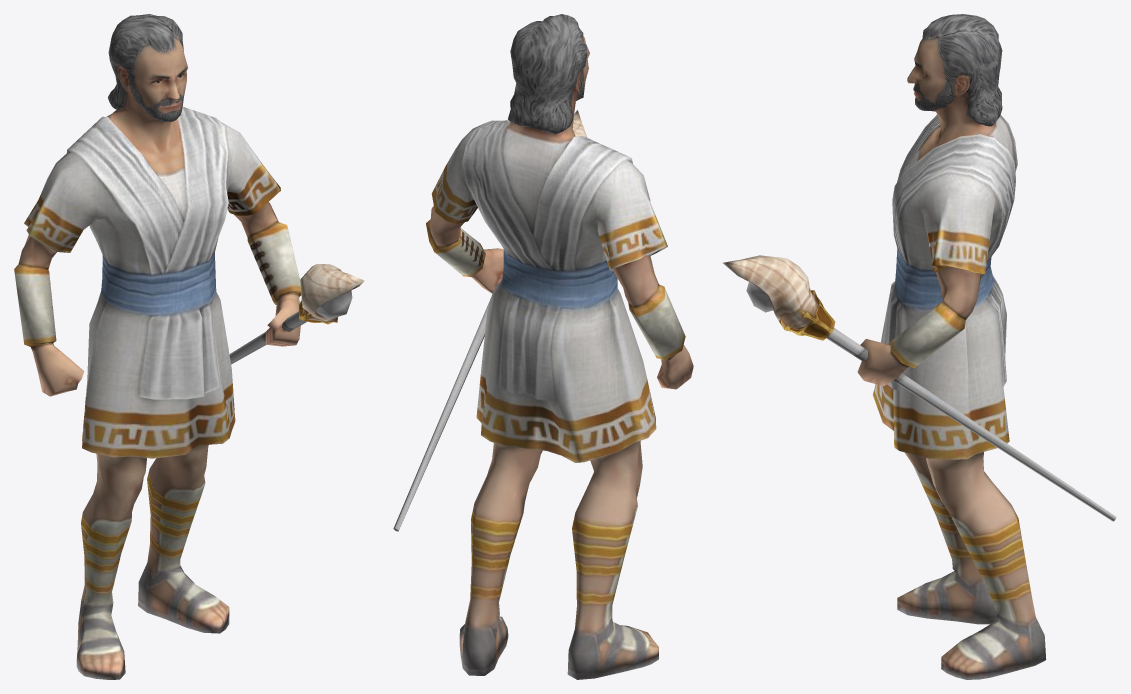
The model's file is 64-oraclehero.glb.
3 views of the same model, side by side, from view 1: azimuth 30°, elevation 25°; view 2: azimuth 150°, elevation 25°; view 3: azimuth 270°, elevation 25° (orthographic).
Size of the model in its own units: 0.895 by 2.07 by 1.19.
2 materials, 2 textured.
